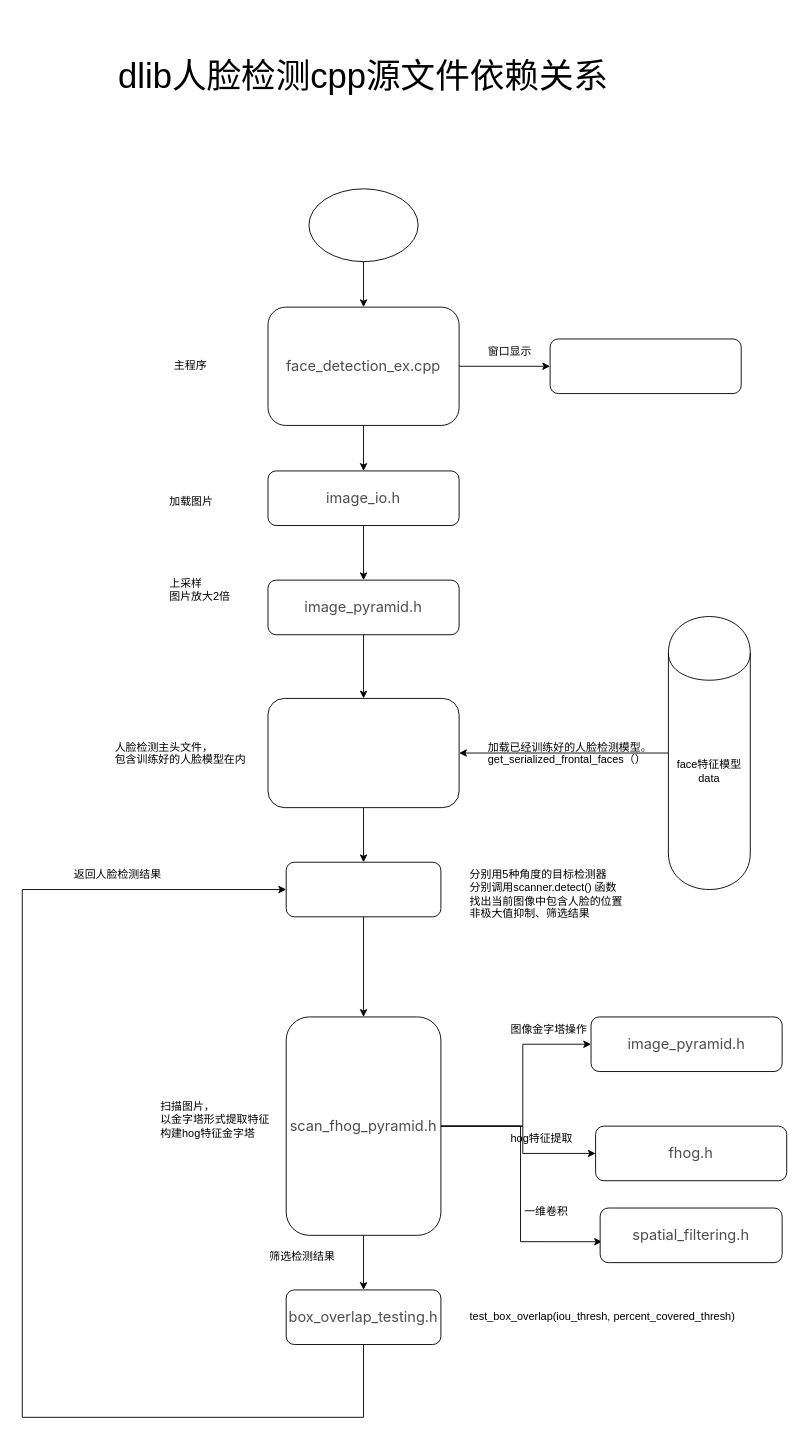
This 803x1441 diagram has some shape labels left out. The shapes that lost their labels are listed below. From the top down, each one's box as (x1, y1, x2, y2) in pixels, then its label:
(308, 188, 418, 262): 开始
(549, 338, 741, 394): gui_widgets.h
(267, 698, 459, 808): frontal_face_detection.h
(285, 861, 441, 917): object_detector.h
